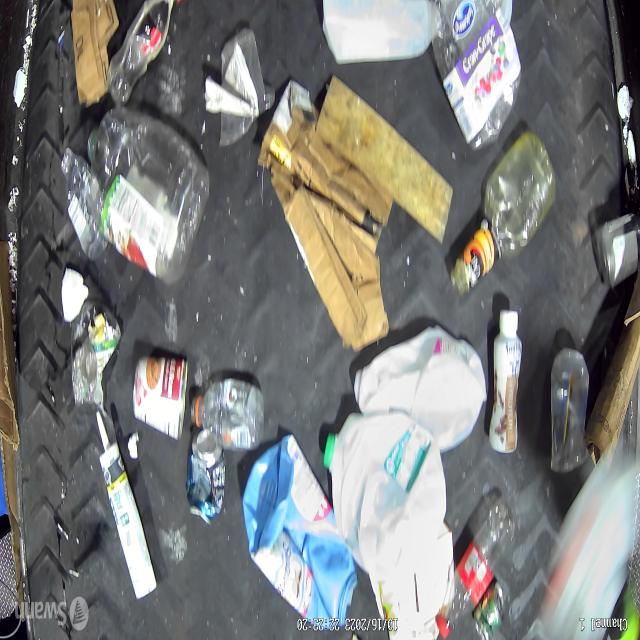can: (132, 354, 188, 441), (186, 430, 226, 526), (473, 581, 504, 640)
milk_jug: (322, 413, 447, 580), (354, 328, 485, 453), (322, 0, 433, 66)
non_white_jug: (242, 434, 358, 631)
plastic_bottle: (88, 105, 210, 286), (451, 131, 556, 299), (436, 497, 516, 640), (107, 0, 174, 106), (62, 146, 108, 258), (192, 376, 262, 449)
